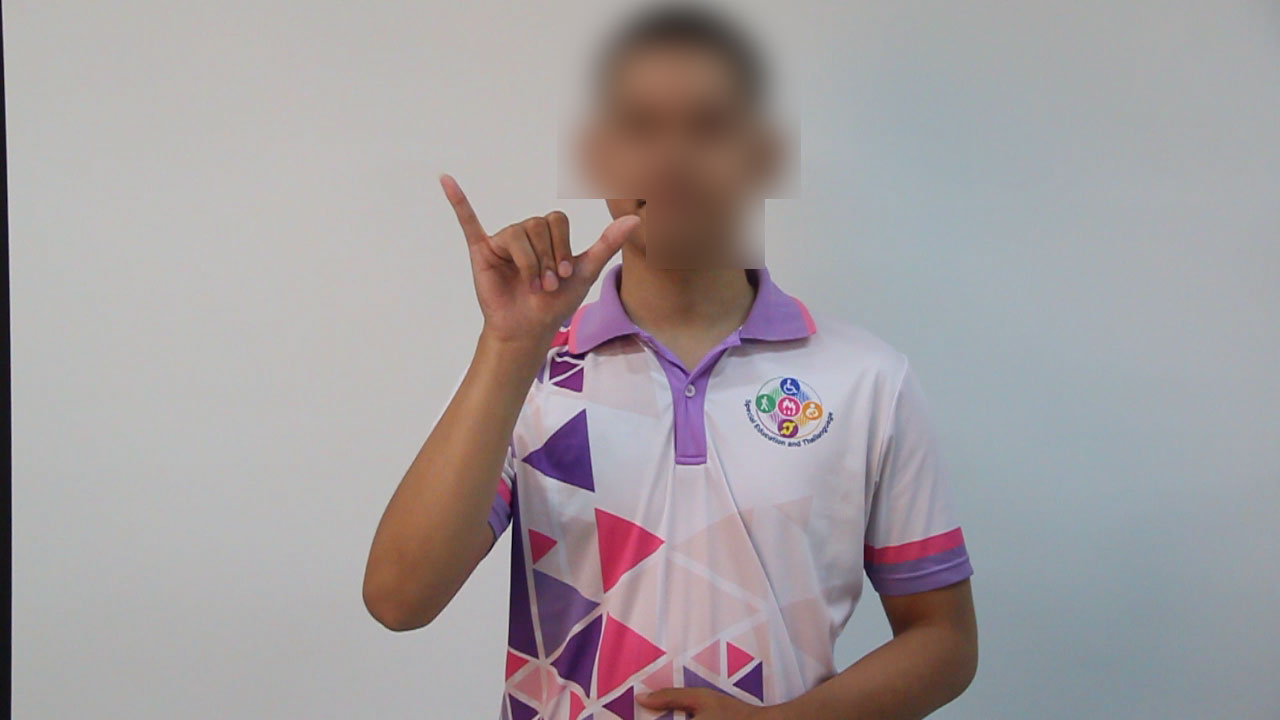yor: (426, 167, 651, 356)
